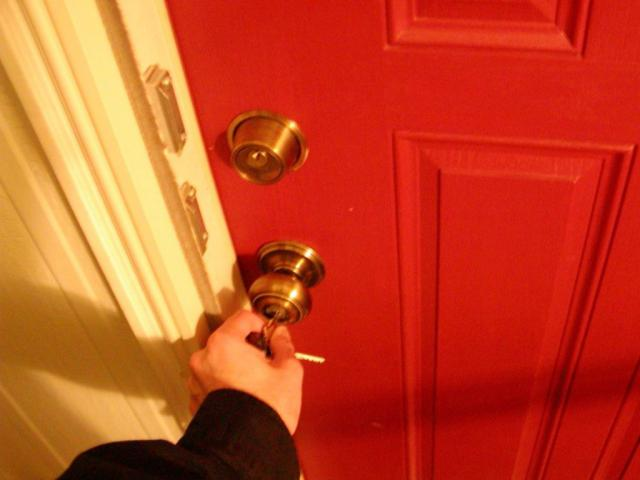Door-handle: (248, 243, 325, 326)
